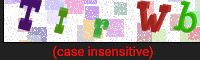I: (49, 3, 73, 38)
T: (9, 1, 50, 37)
W: (136, 1, 173, 36)
b: (174, 1, 198, 37)
r: (88, 14, 115, 41)
